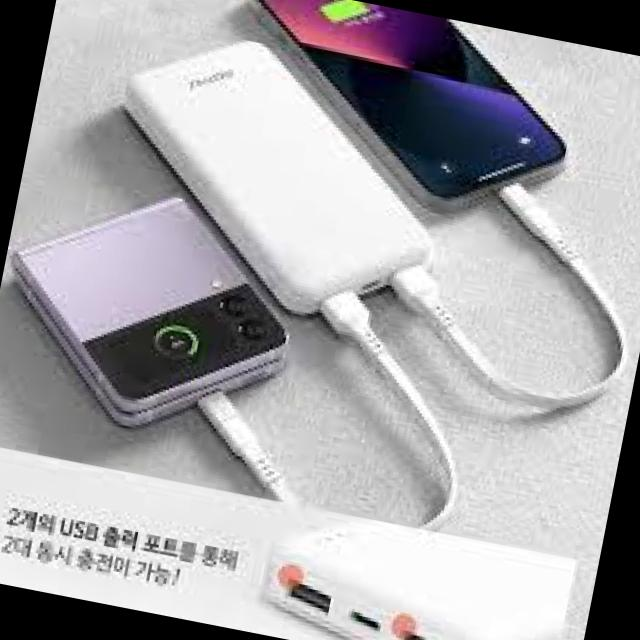portable-charger: (88, 18, 474, 339)
